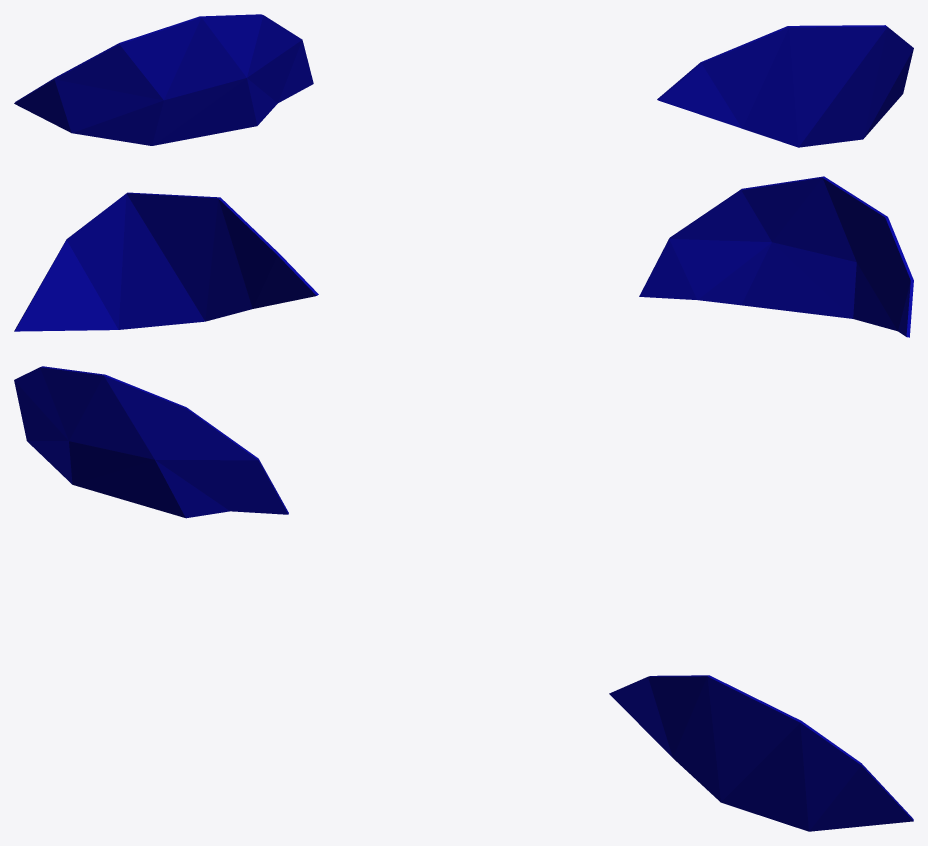
Rendered from eyes_blue.obj.
The picture shows the model from 3 angles, top to bottom: view 1: azimuth 30°, elevation 25°; view 2: azimuth 150°, elevation 25°; view 3: azimuth 330°, elevation 25°; orthographic projection.
Visible parts, largest first — view 1: eyes_blue_eyes_blue_helios_20140908_Alexander_as_Helios_by_Cosmo; view 2: eyes_blue_eyes_blue_helios_20140908_Alexander_as_Helios_by_Cosmo; view 3: eyes_blue_eyes_blue_helios_20140908_Alexander_as_Helios_by_Cosmo.
Boxes of the visible parts, x1,y1,x2,y2 form: eyes_blue_eyes_blue_helios_20140908_Alexander_as_Helios_by_Cosmo: (14,14,913,147); eyes_blue_eyes_blue_helios_20140908_Alexander_as_Helios_by_Cosmo: (14,176,913,337); eyes_blue_eyes_blue_helios_20140908_Alexander_as_Helios_by_Cosmo: (14,366,913,831).
Size of the model in its own units: 24.51 by 7.99 by 2.61.
